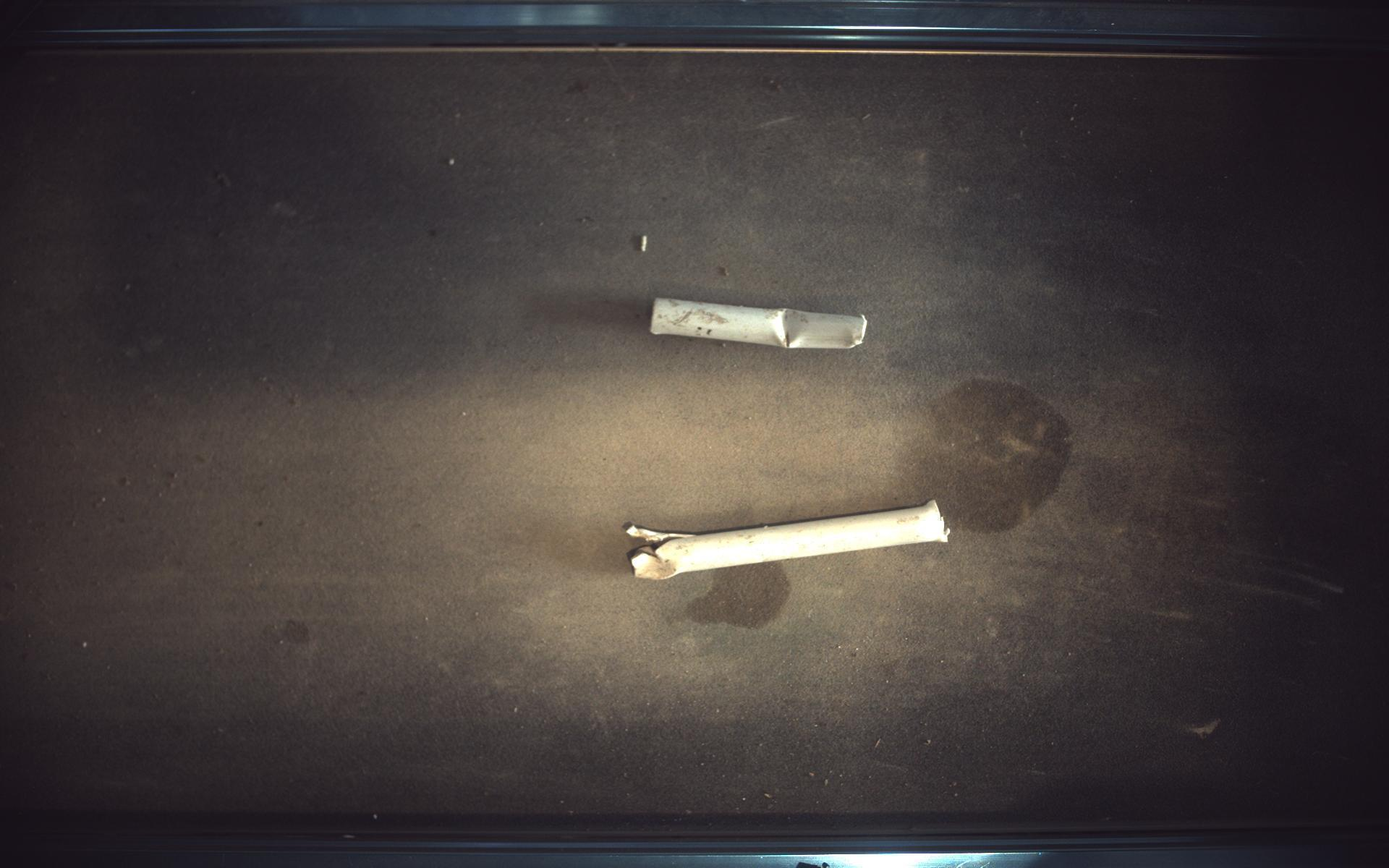pipes: (625, 501, 951, 580), (651, 297, 869, 349)
